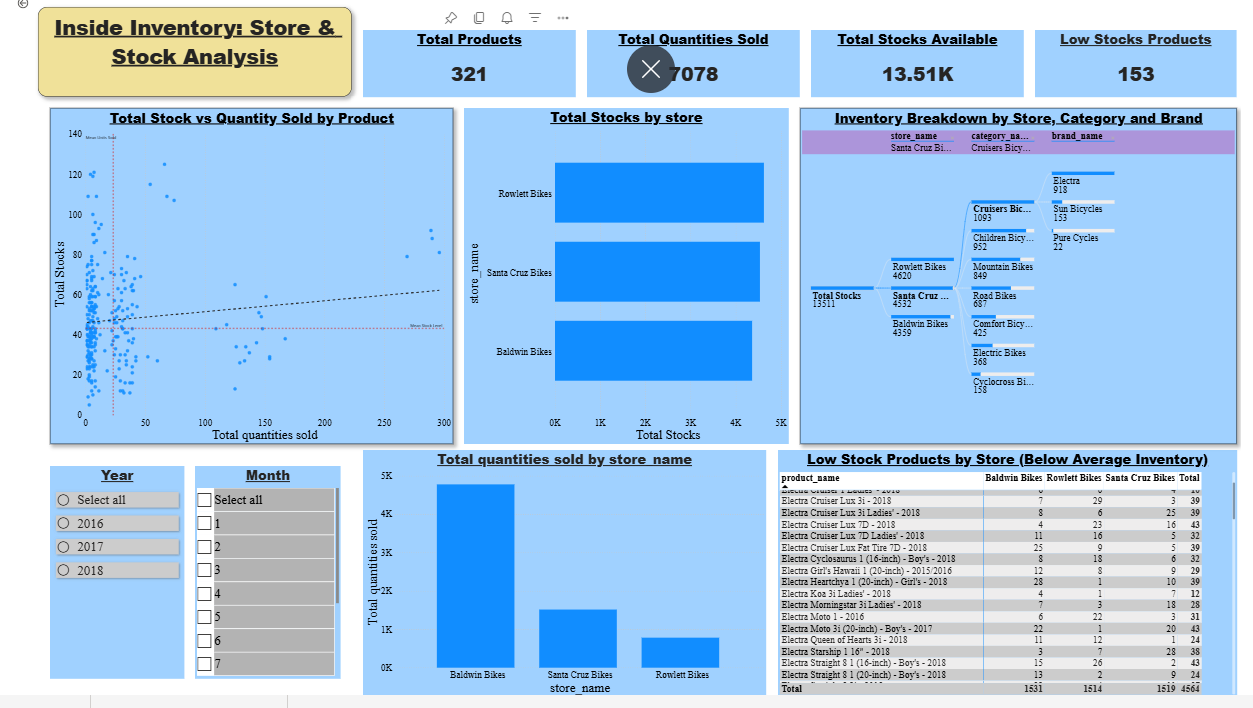

The page's visual inventory and layout, read from the dashboard file:
{"tool":"powerbi","page":{"name":"Inside Inventory","canvas":[3500,2000],"ordinal":1},"visuals":[{"type":"actionButton","box":[0,0,100,40],"z":0},{"type":"card","title":"Low Stocks Products","fields":{"Values":["stocks.Low stock products"]},"box":[2912,96,576,192],"z":1000},{"type":"pivotTable","title":"Low Stock Products by Store (Below Average Inventory)","fields":{"Rows":["products.product_name"],"Columns":["stores.store_name"],"Values":["Sum(stocks.quantity)"]},"box":[2176,1296,1312,704],"z":2000},{"type":"scatterChart","title":"Total Stock vs Quantity Sold by Product","fields":{"Category":["products.product_name"],"X":["order_items.Total quantities sold"],"Y":["stocks.Total Stocks"]},"box":[96,320,1152,960],"z":3000},{"type":"card","title":"Total Products","fields":{"Values":["products.Total Products"]},"box":[992,96,608,192],"z":4000},{"type":"card","title":"Total Quantities Sold","fields":{"Values":["order_items.Total quantities sold"]},"box":[1632,96,608,192],"z":5000},{"type":"listSlicer","fields":{"Values":["DimDate.Year"]},"box":[96,1344,384,608],"z":6000},{"type":"listSlicer","title":"Month ","fields":{"Values":["DimDate.Month Number"]},"box":[512,1344,416,608],"z":7000},{"type":"clusteredBarChart","title":"Total Stocks by store","fields":{"Category":["stores.store_name"],"Y":["stocks.Total Stocks"]},"box":[1280,320,928,960],"z":8000},{"type":"decompositionTreeVisual","title":"Inventory Breakdown by Store, Category and Brand","fields":{"Analyze":["stocks.Total Stocks"],"ExplainBy":["stores.store_name","categories.category_name","brands.brand_name"]},"box":[2240,320,1248,960],"z":9000},{"type":"card","title":"Total Stocks Available","fields":{"Values":["stocks.Total Stocks"]},"box":[2272,96,608,192],"z":10000},{"type":"clusteredColumnChart","fields":{"Y":["order_items.Total quantities sold"],"Category":["stores.store_name"]},"box":[992,1296,1152,704],"z":11000},{"type":"textbox","box":[64,32,896,256],"z":12000}]}

Visuals, with their boxes in screenshot pixels (x1, y1, x2, y2):
actionButton: pyautogui.locateOnScreen(16, 0, 51, 14)
"Low Stocks Products" card: pyautogui.locateOnScreen(1033, 34, 1234, 101)
"Low Stock Products by Store (Below Average Inventory)" pivotTable: pyautogui.locateOnScreen(776, 452, 1234, 698)
"Total Stock vs Quantity Sold by Product" scatterChart: pyautogui.locateOnScreen(50, 112, 452, 447)
"Total Products" card: pyautogui.locateOnScreen(363, 34, 575, 101)
"Total Quantities Sold" card: pyautogui.locateOnScreen(586, 34, 798, 101)
listSlicer - DimDate.Year: pyautogui.locateOnScreen(50, 469, 184, 682)
"Month " listSlicer: pyautogui.locateOnScreen(195, 469, 340, 682)
"Total Stocks by store" clusteredBarChart: pyautogui.locateOnScreen(463, 112, 787, 447)
"Inventory Breakdown by Store, Category and Brand" decompositionTreeVisual: pyautogui.locateOnScreen(798, 112, 1234, 447)
"Total Stocks Available" card: pyautogui.locateOnScreen(810, 34, 1022, 101)
clusteredColumnChart - order_items.Total quantities sold x stores.store_name: pyautogui.locateOnScreen(363, 452, 765, 698)
textbox: pyautogui.locateOnScreen(39, 11, 351, 101)
